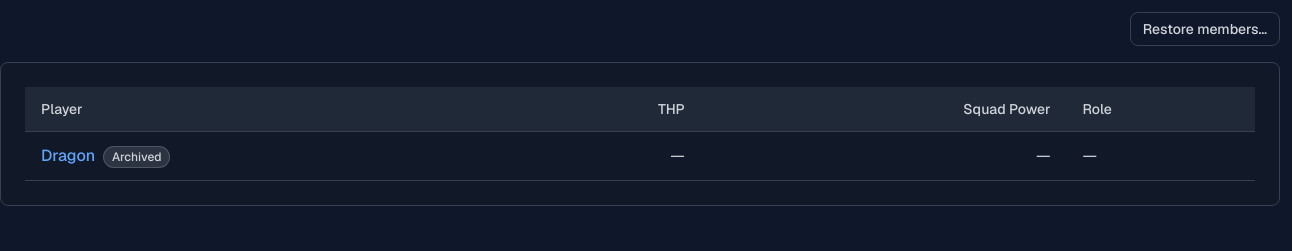
Test: MembersTable — entering and exiting selection mode › shows Restore selected on the Archived view once a row is selected
Click the button "Restore members…".
click(1205, 29)  # box [1130,12,1280,46]
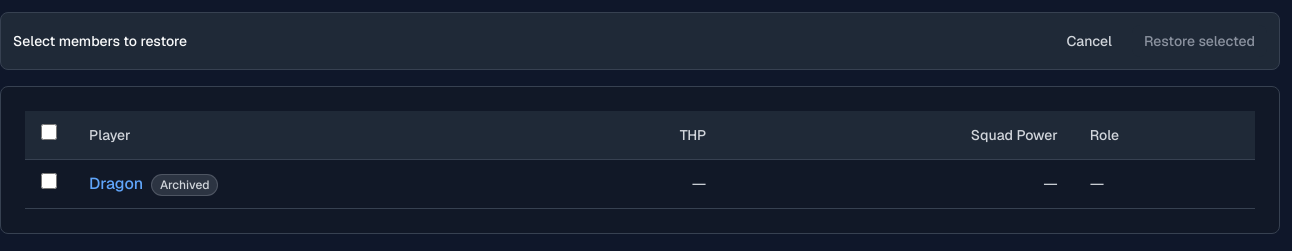
Click the checkbox named "Select Dragon".
click(49, 181)  # box [41,173,57,189]
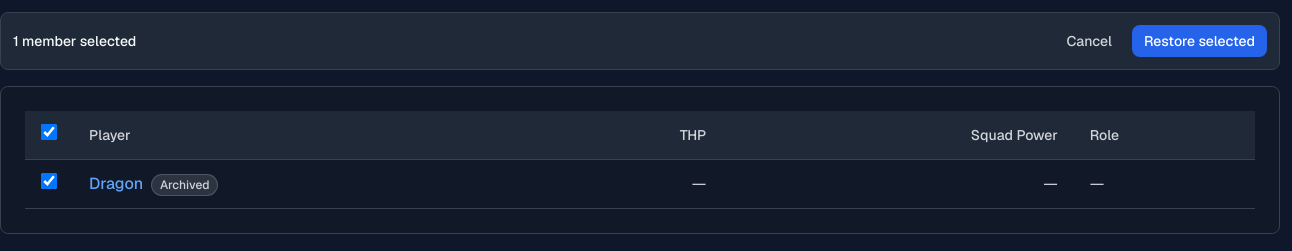
Expected: the button "Restore selected" is enabled, [1132,25,1267,57]
